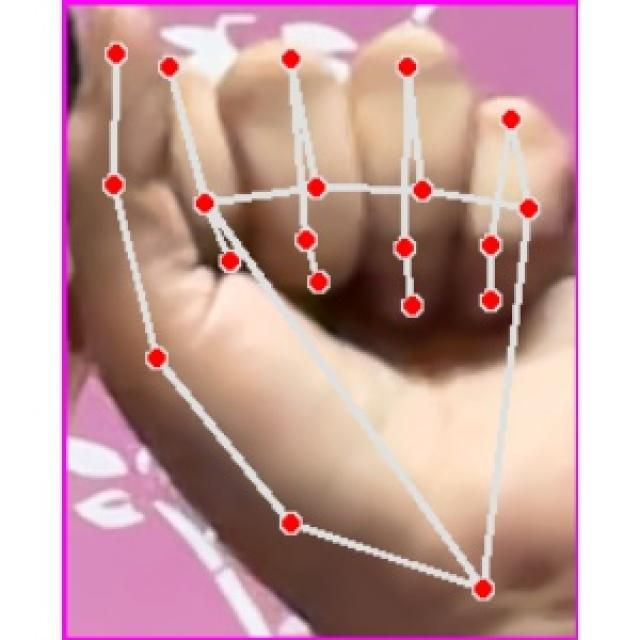A: (70, 4, 578, 637)
